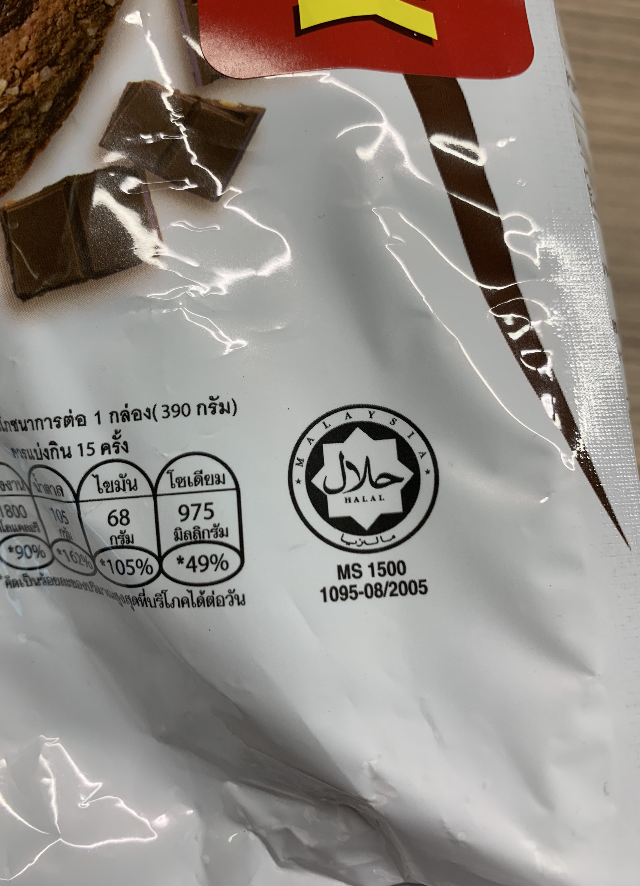halal: (316, 435, 414, 529)
